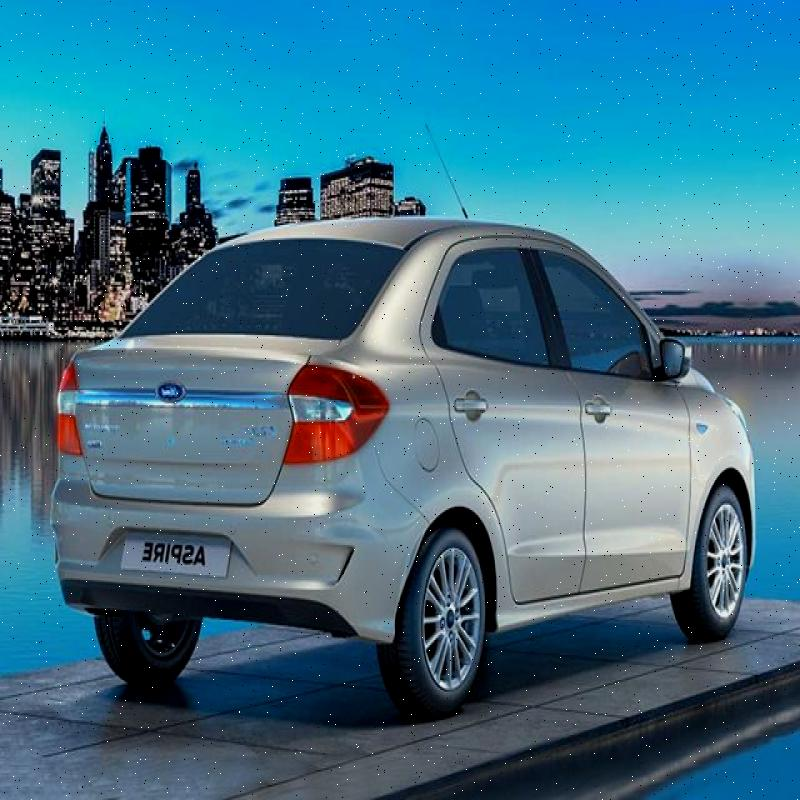car: (42, 215, 757, 698)
